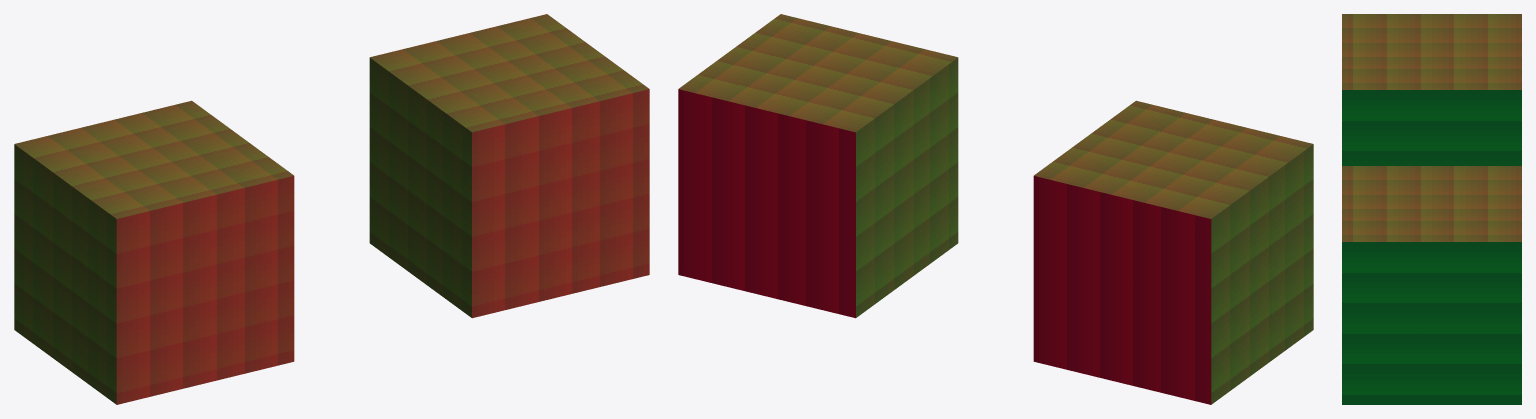
Rendered from crate.glb.
3 renders of one model, left to right at view 1: azimuth 30°, elevation 25°; view 2: azimuth 150°, elevation 25°; view 3: azimuth 270°, elevation 25°, orthographic. The views are drawn at different scales.
Visible parts, largest first — view 1: crate, crate-copy; view 2: crate, crate-copy; view 3: crate-copy, crate.
Part boxes in pixels (box(x1,y1,x2,y2)): crate: box(14, 100, 294, 404); crate-copy: box(369, 14, 649, 318); crate: box(1033, 100, 1313, 404); crate-copy: box(678, 14, 958, 318); crate-copy: box(1342, 166, 1521, 404); crate: box(1342, 14, 1521, 165).
Size of the model in its own units: 3 by 1 by 1.
Materials: 2 (2 with a texture image).
